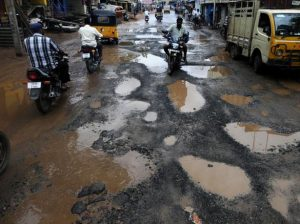pothole: (0, 140, 166, 223), (175, 147, 255, 203), (221, 109, 299, 157), (154, 72, 211, 116), (128, 46, 170, 82), (104, 69, 143, 100), (183, 55, 228, 80)
